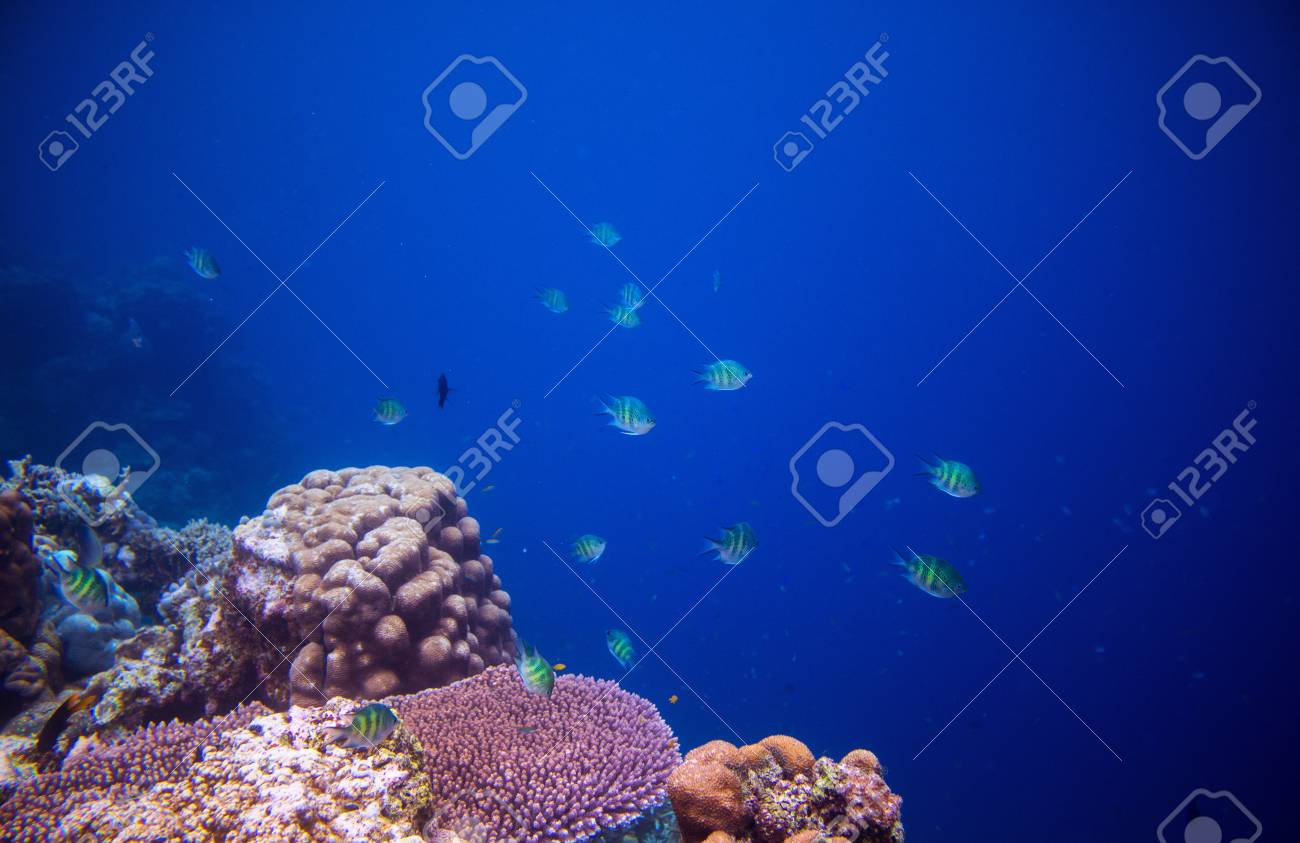fish: (877, 536, 978, 605), (687, 516, 776, 583), (591, 278, 668, 350), (312, 705, 409, 760), (592, 620, 666, 691), (589, 387, 666, 448), (679, 347, 759, 403), (502, 643, 567, 709), (908, 448, 976, 500), (563, 532, 624, 577), (574, 208, 631, 252), (174, 240, 220, 288), (360, 393, 413, 429), (524, 278, 568, 314)
